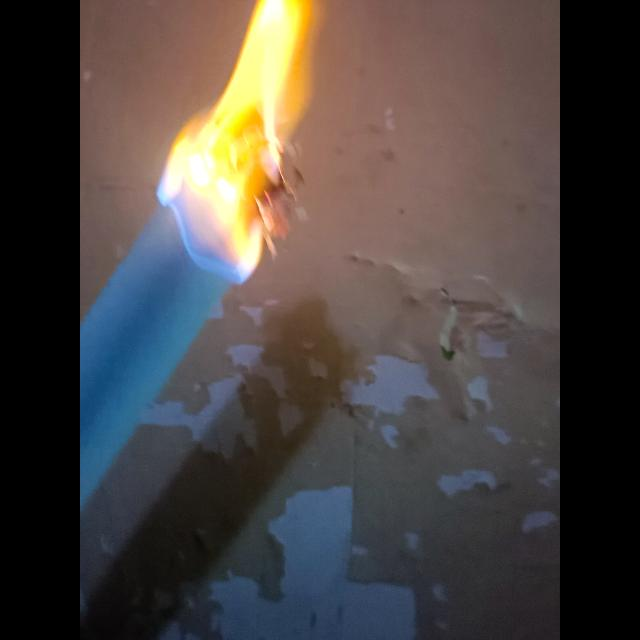fire: (157, 0, 312, 282)
